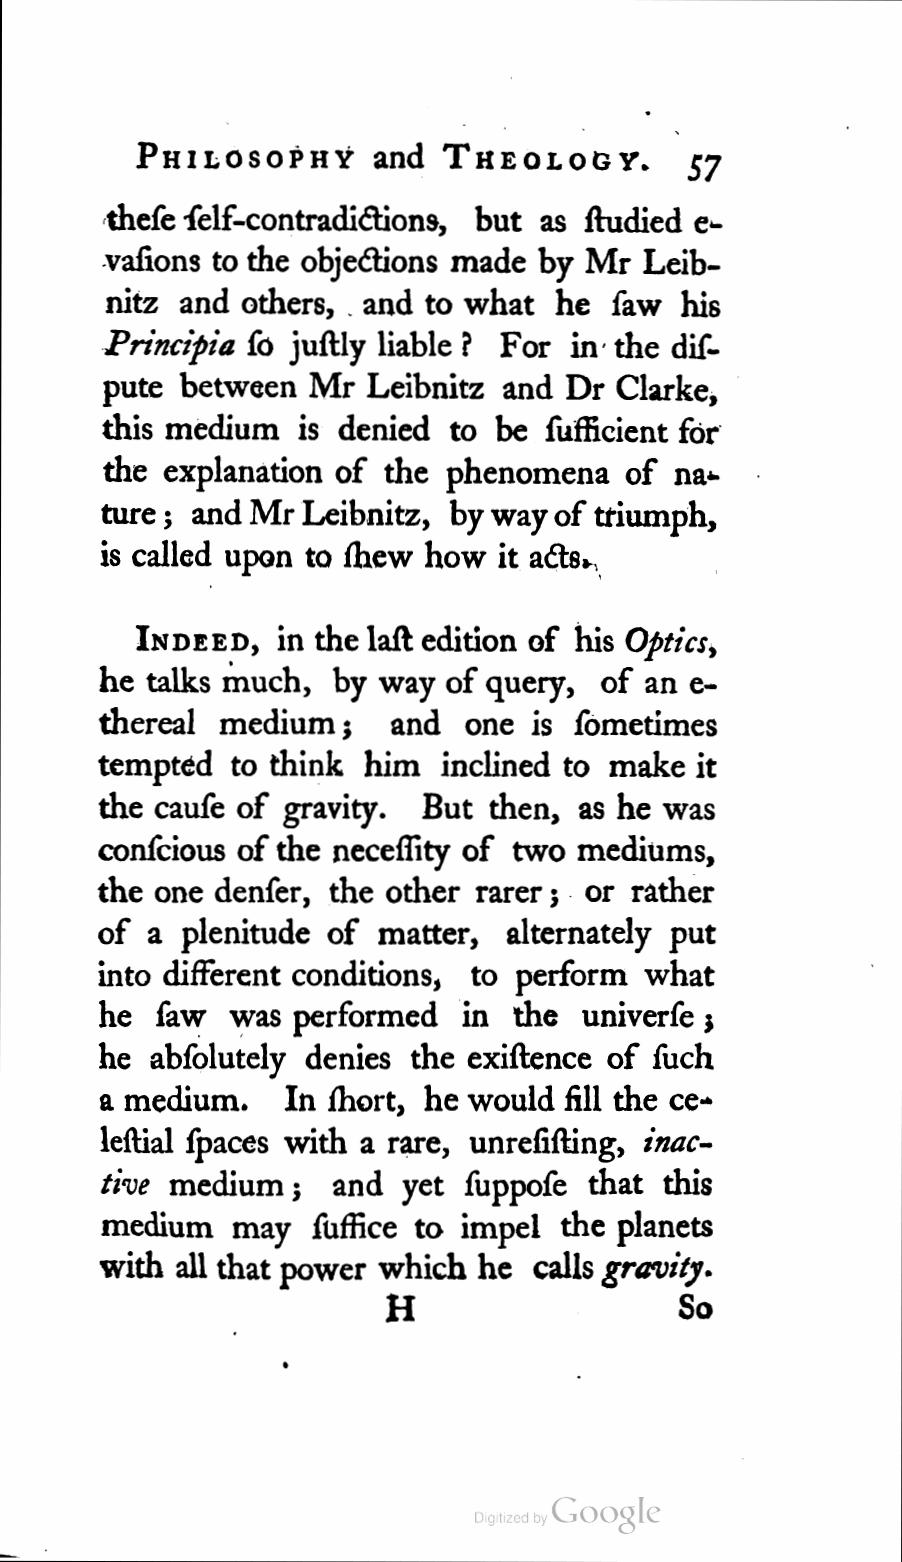bottom_p: (96, 196, 728, 572)
catchword: (674, 1290, 718, 1326)
header: (134, 132, 654, 180)
page_num: (684, 148, 726, 186)
signature: (380, 1288, 416, 1328)
top_p: (92, 616, 722, 1290)
